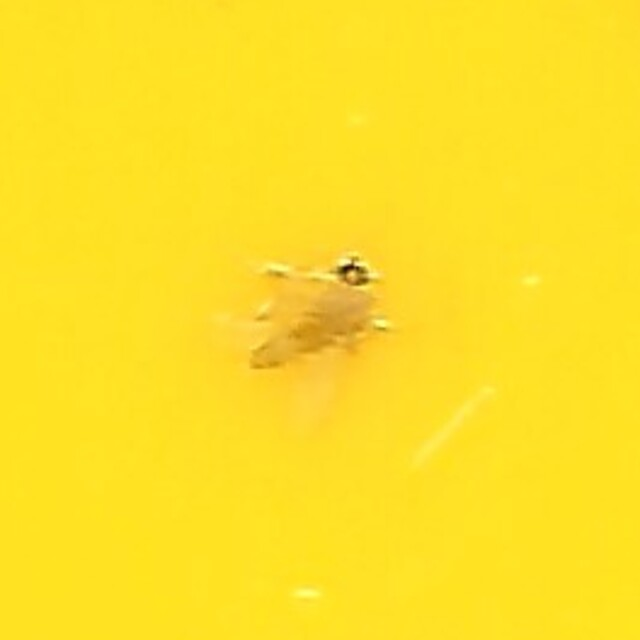Nematocera: (242, 244, 398, 396)
